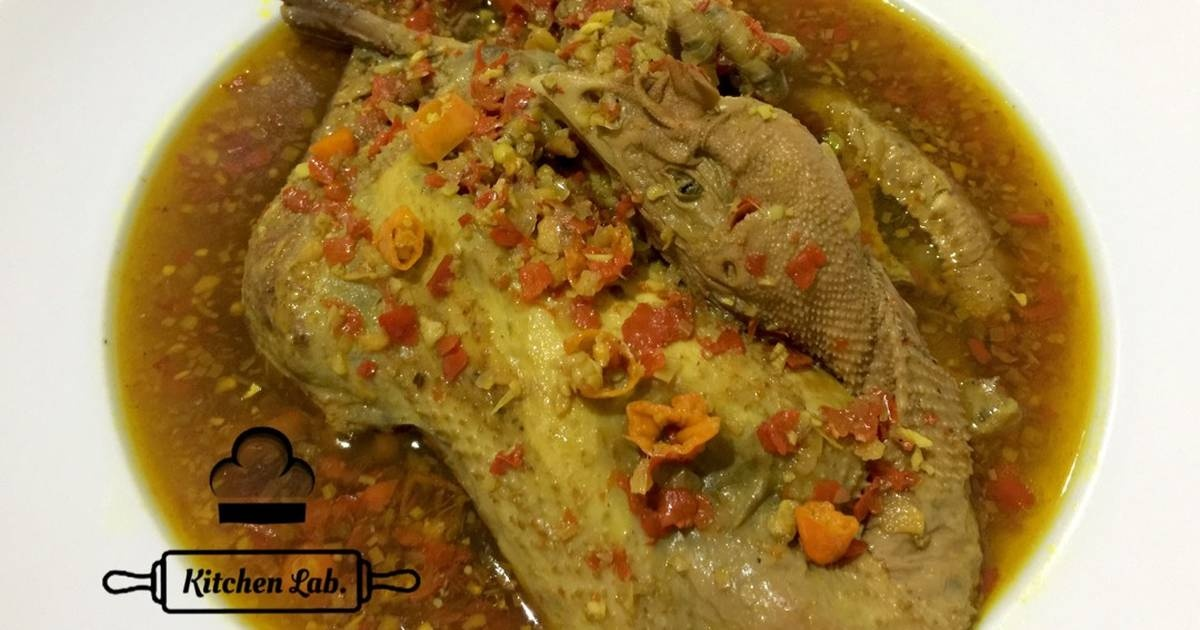ayam_betutu: (242, 6, 1012, 630)
